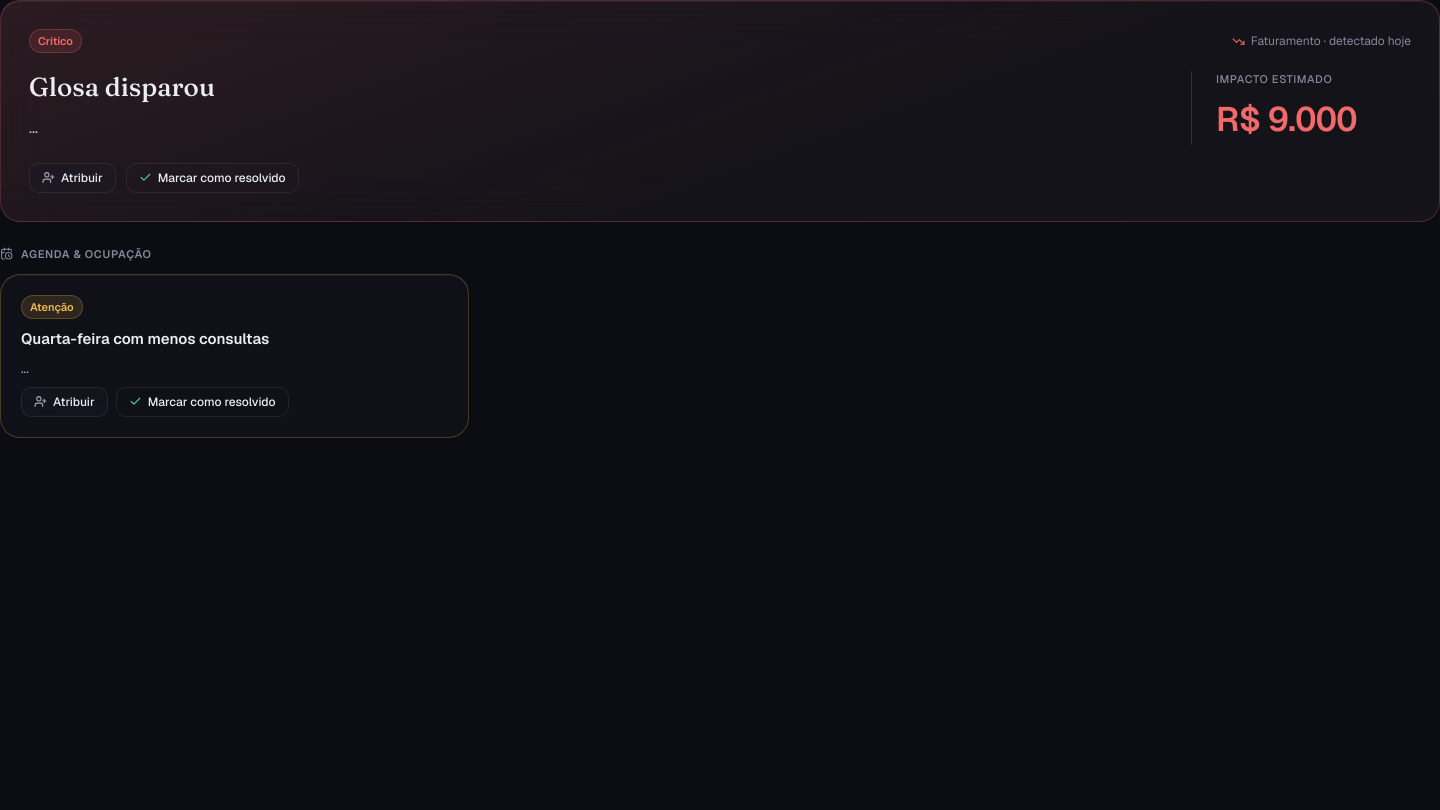
Test: SmartInsightsFeed › atribuição/resolução de insight (épico F1.3, agora também no Diagnóstico) › owner atribui um card secundário (SecondaryInsightCard) ao coordenador do setor
expect the text "Quarta-feira com menos consultas" is shown: met, box [21, 329, 269, 348]
Click the button "Atribuir" below "Quarta-feira com menos consultas".
click(64, 402)  # box [21, 387, 108, 417]
(page scrolled)
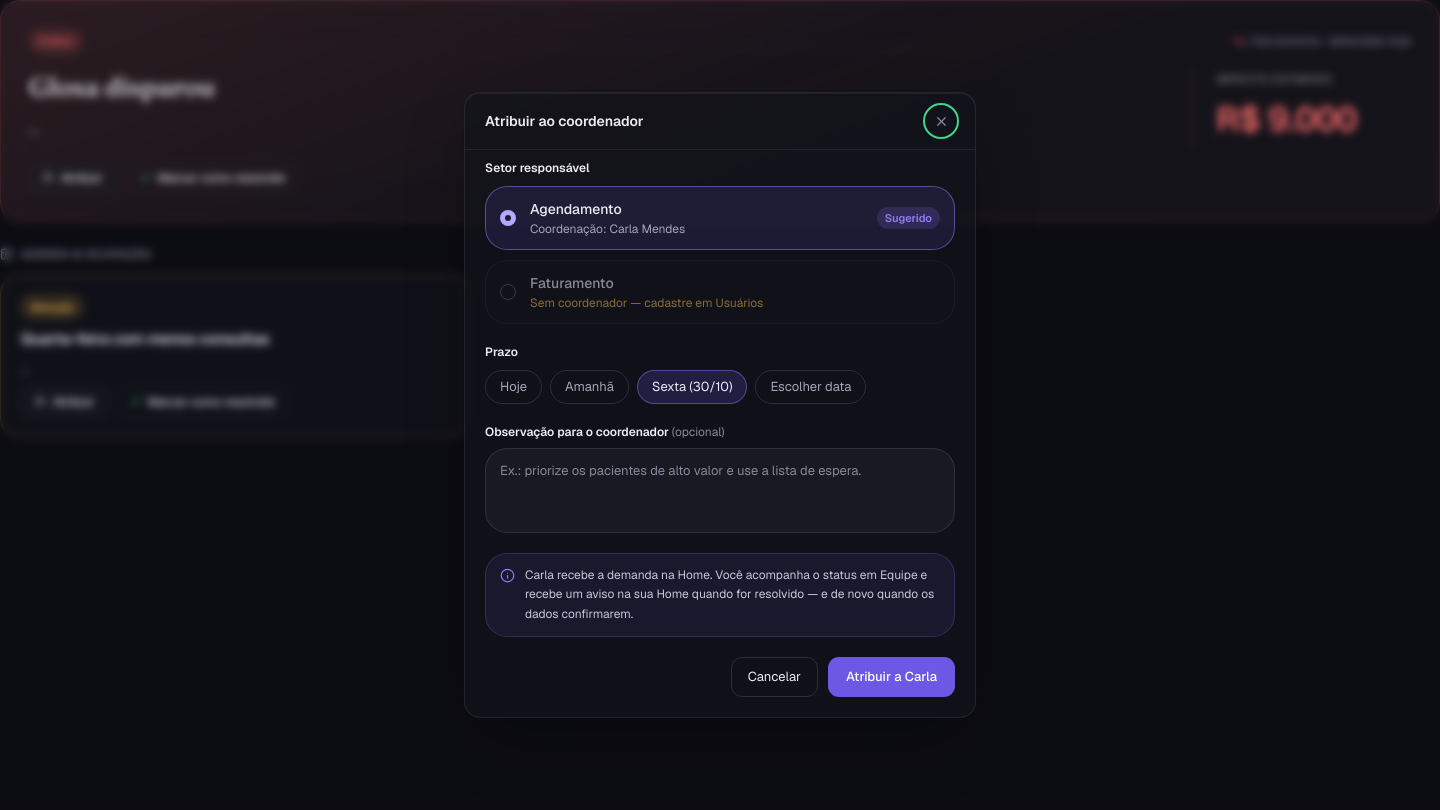
expect the text "Coordenação: Carla Mendes" is shown: met, box [530, 221, 685, 237]
Click the button "Atribuir a Carla".
click(891, 677)  # box [828, 657, 955, 697]
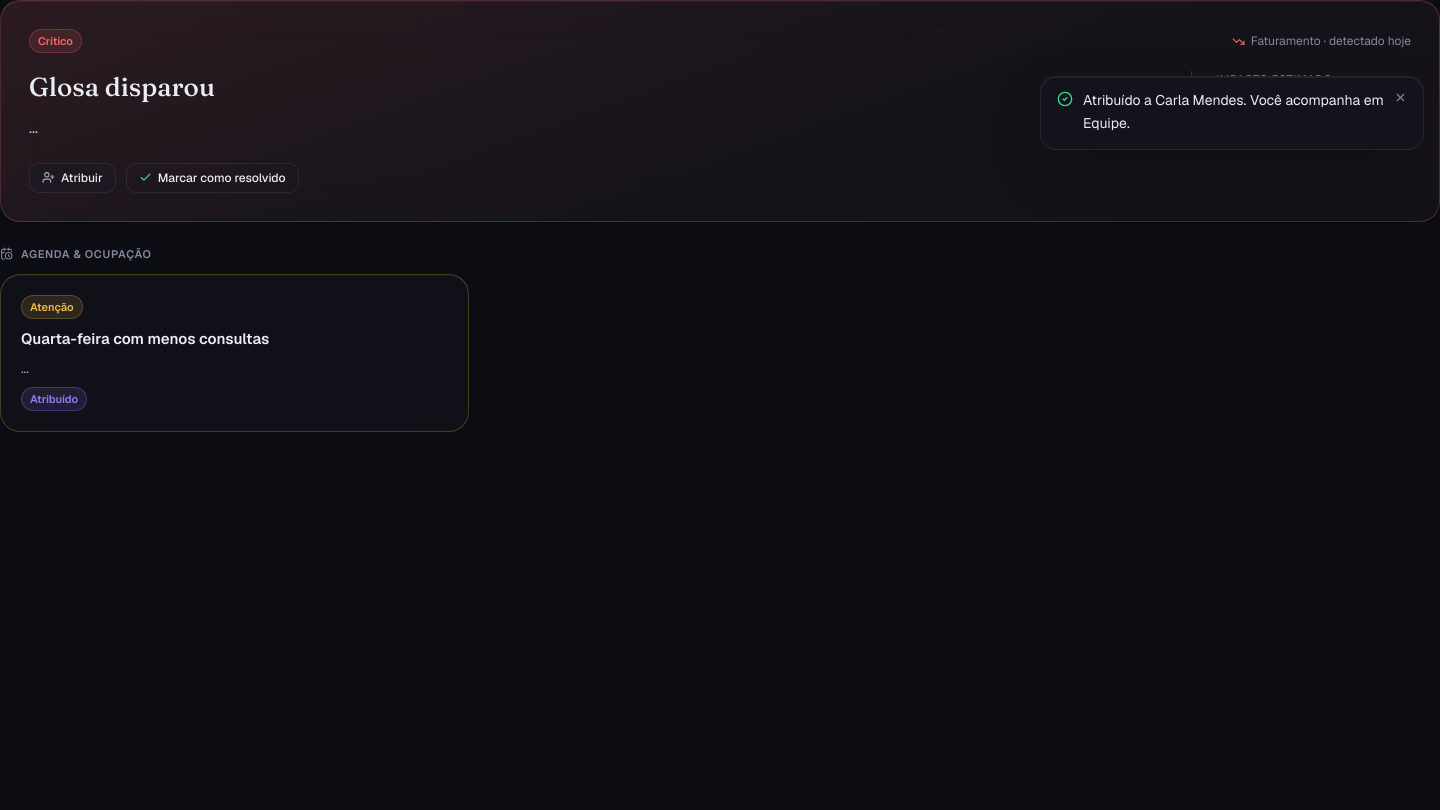
expect the text "Atribuído" is shown: met, box [21, 387, 87, 411]
